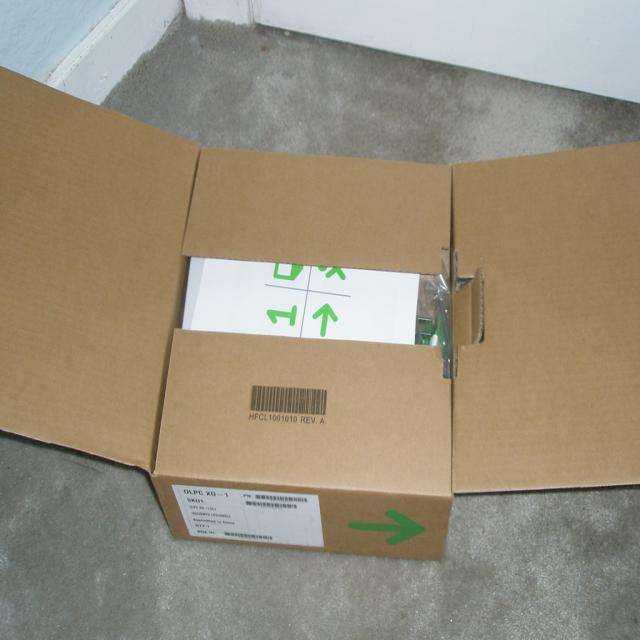Box: (0, 65, 640, 562)
